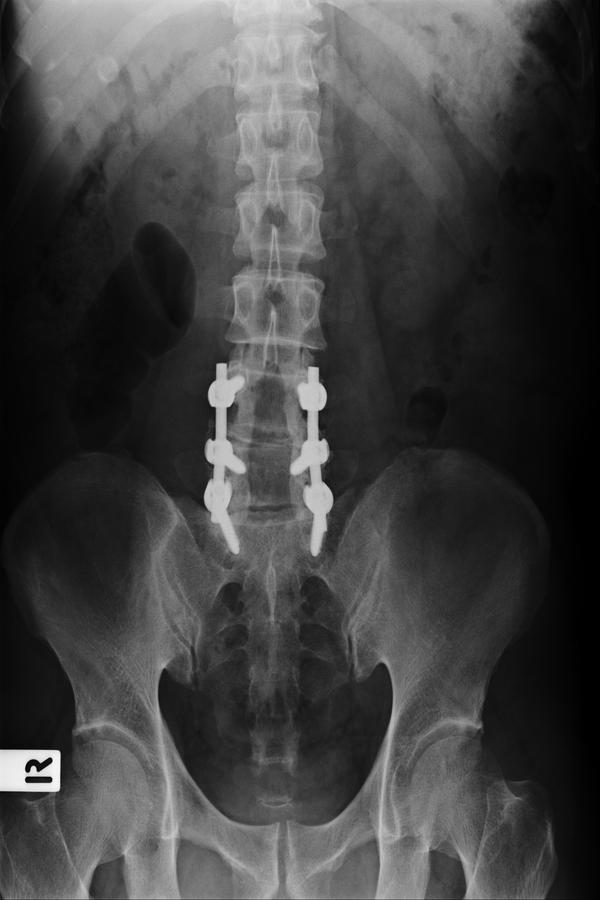lumbar scoliosis: (208, 142, 341, 550)
